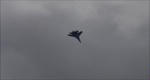maybay_muctieu: (67, 29, 85, 44)
